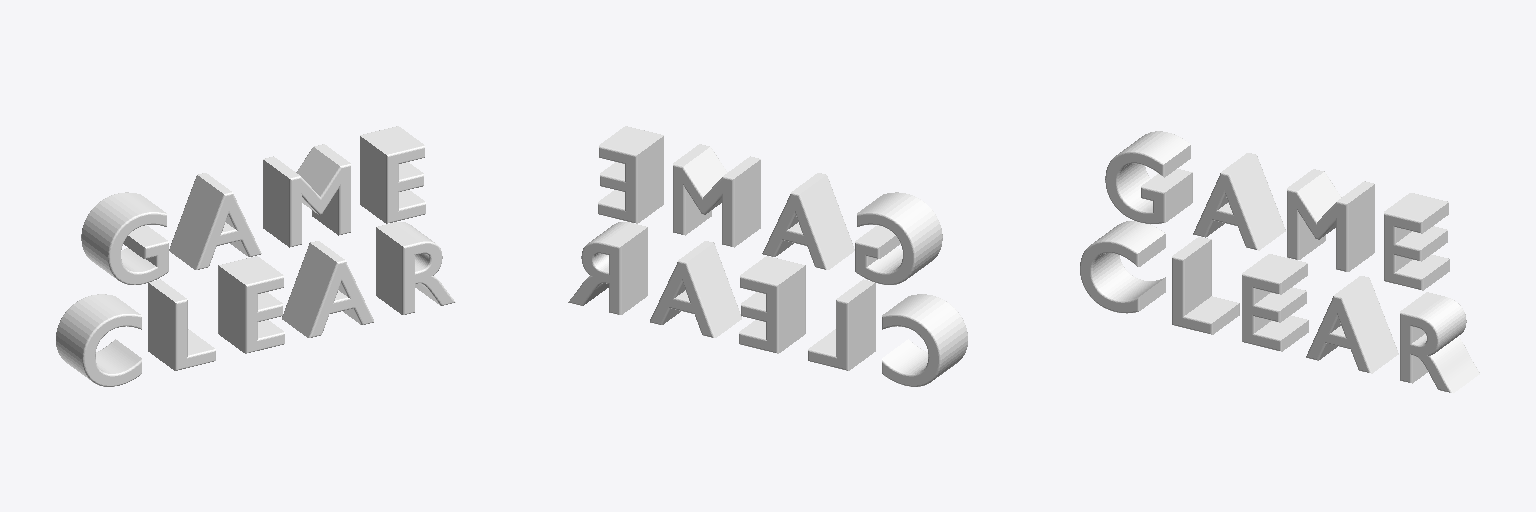
The picture shows the model from 3 angles: view 1: azimuth 30°, elevation 25°; view 2: azimuth 150°, elevation 25°; view 3: azimuth 330°, elevation 25°; orthographic projection.
Visible parts, largest first — view 1: テキスト; view 2: テキスト; view 3: テキスト.
Boxes of the visible parts, box(x1,y1,x2,y2) form: テキスト: box(56, 126, 455, 386); テキスト: box(568, 126, 967, 386); テキスト: box(1080, 131, 1479, 393).
Size of the model in its own units: 4.09 by 1.74 by 0.54.
Materials: 1 (1 with a texture image).